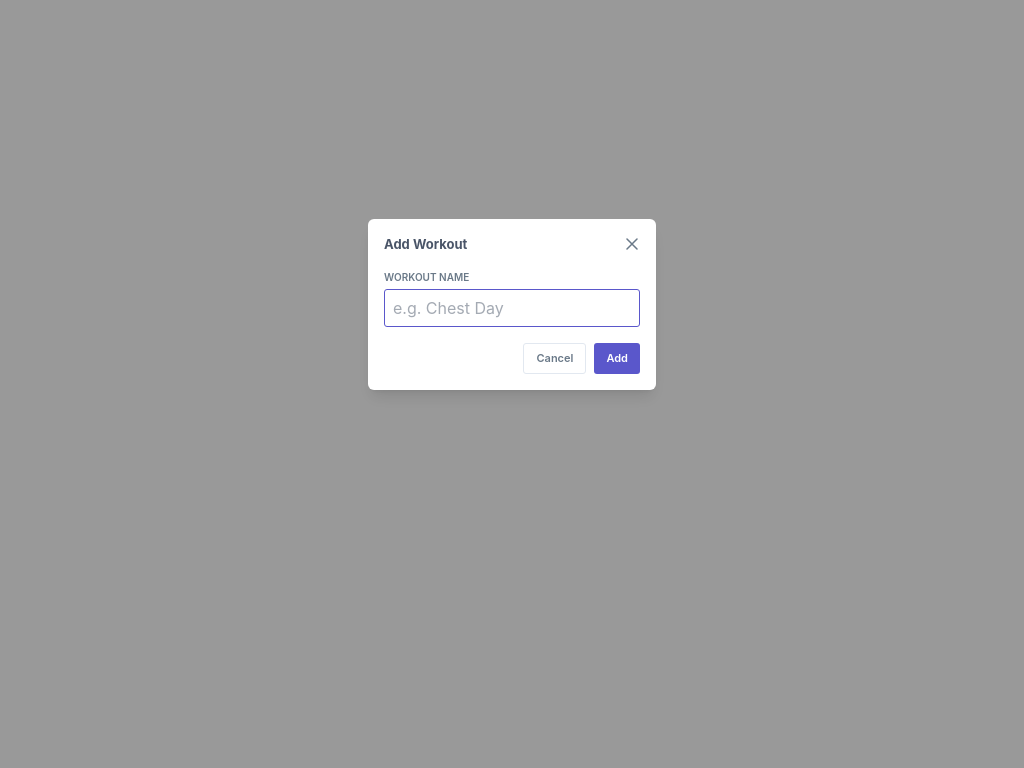
Scenario: WorkoutFormModal — add mode › shows validation error when submitting empty name
Click the button "Add": (617, 358) [594,343,640,374]
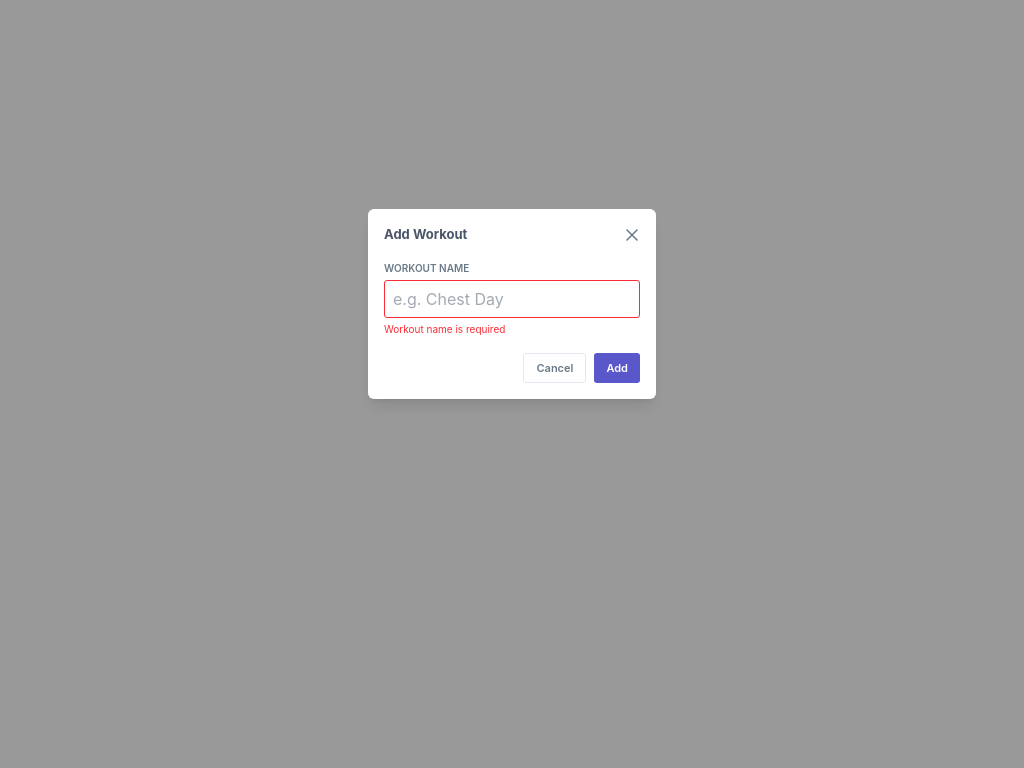
Expected: the message reads "Workout name is required", [384,322,505,334]
